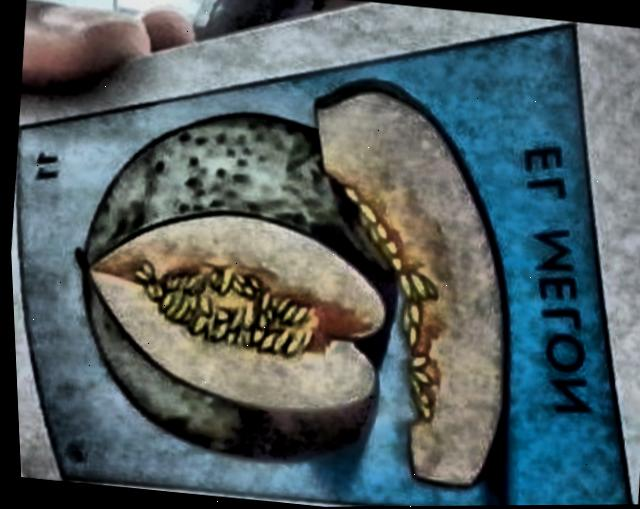El Melon: (18, 27, 624, 507)
